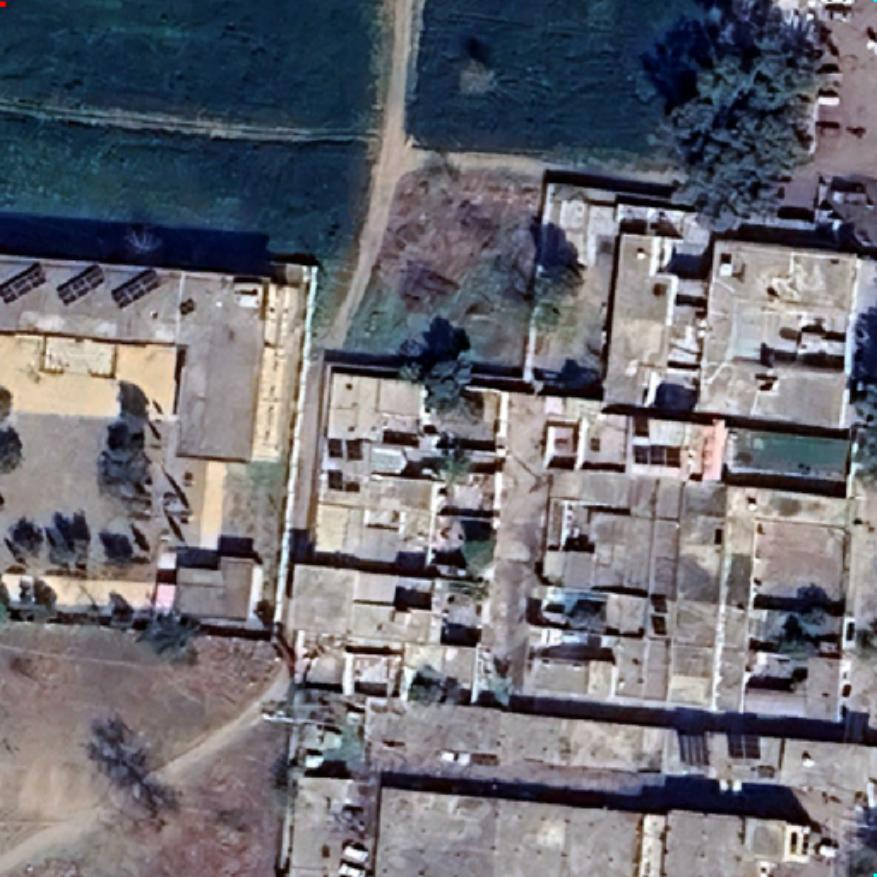Solarpanel: (106, 267, 166, 313), (54, 261, 109, 308), (1, 259, 51, 308), (629, 440, 685, 470), (724, 726, 764, 764), (675, 729, 713, 769)
